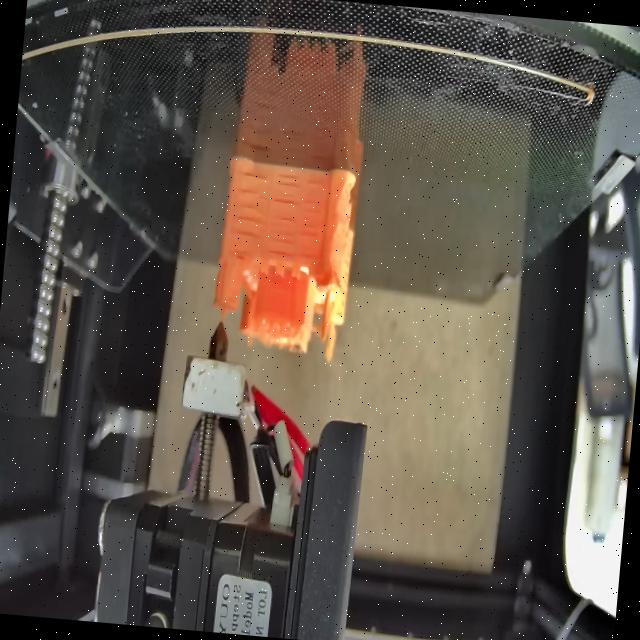cracks: (266, 173, 303, 258), (296, 178, 328, 264), (232, 171, 272, 239), (233, 250, 245, 265)
